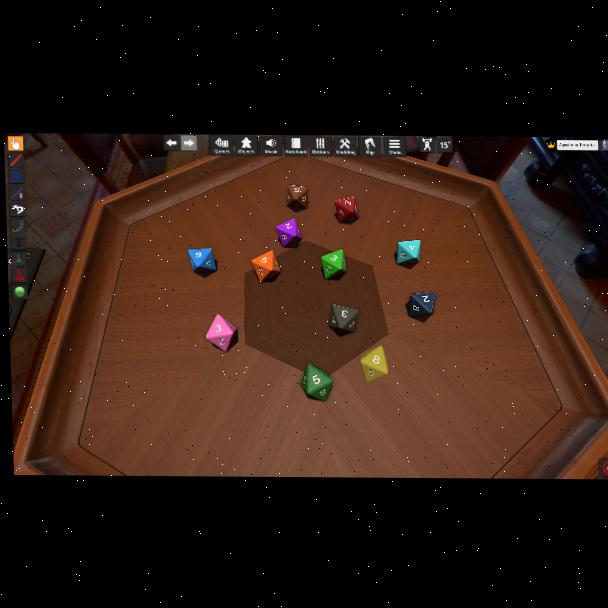d8: (204, 313, 237, 352), (302, 364, 331, 400), (360, 346, 388, 382), (250, 251, 279, 283), (329, 304, 357, 333), (275, 218, 302, 248), (187, 248, 216, 275), (319, 249, 344, 279), (407, 291, 435, 317), (335, 196, 358, 223), (397, 239, 420, 265), (286, 185, 307, 210)
